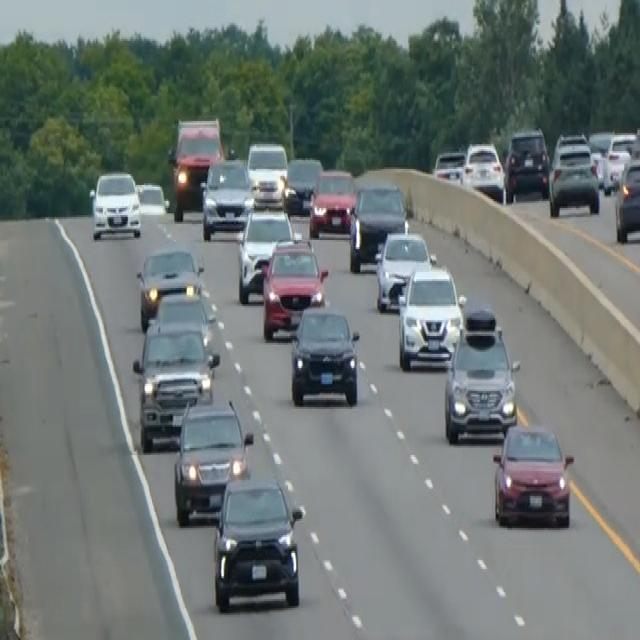car: (212, 469, 303, 612), (132, 316, 219, 450), (443, 306, 519, 444), (172, 396, 253, 524), (492, 420, 574, 528), (289, 302, 360, 407), (397, 261, 465, 370), (260, 234, 328, 340), (136, 243, 204, 329), (236, 205, 294, 302), (348, 180, 408, 272), (374, 228, 434, 311), (199, 153, 253, 240), (153, 286, 219, 356), (547, 133, 600, 217), (88, 167, 141, 240), (308, 166, 356, 238), (504, 126, 549, 201), (461, 138, 505, 202), (246, 139, 288, 206), (283, 153, 323, 213), (614, 153, 639, 243), (602, 130, 637, 194), (587, 128, 613, 185), (432, 148, 465, 183)
jeep: (166, 114, 225, 220)
